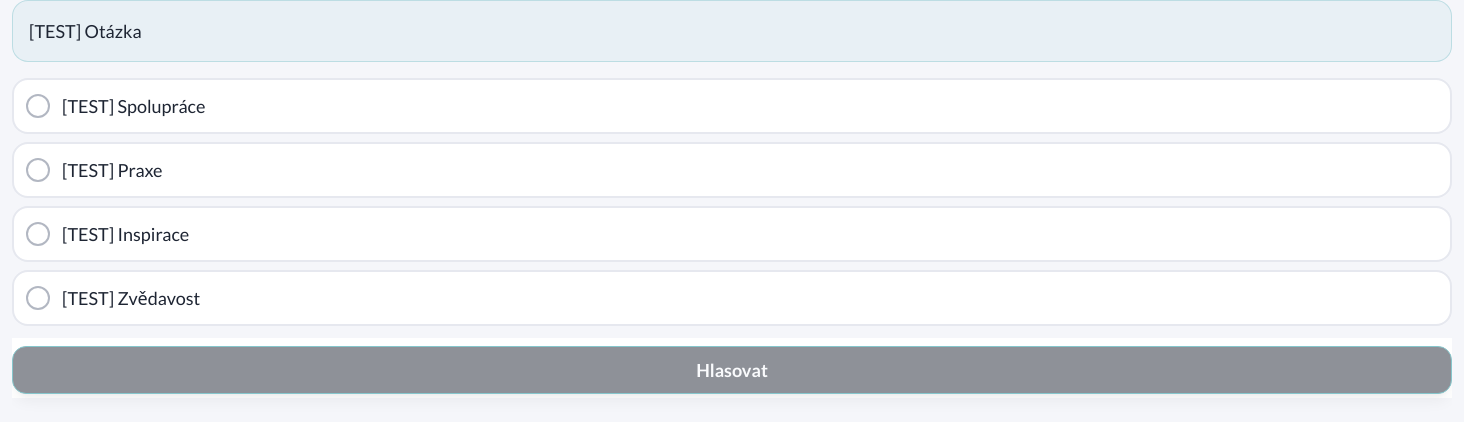
Test: PollActivity – výběr odpovědi › celý řádek přepne výběr a zpřístupní hlasování
Check: the button "Hlasovat" is disabled, box 12,346 -> 1452,394
What coordinates should you click on to do the following:
click the button "[TEST] Spolupráce"
I would click on:
 (134, 106)
Its box is 12,78 -> 1452,134.
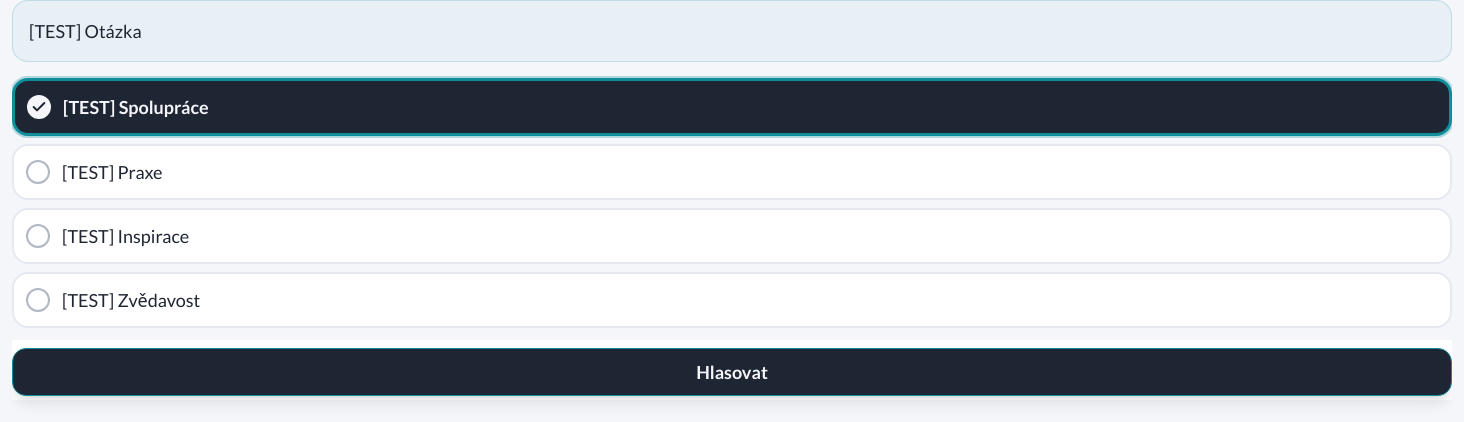
Check: the button "Hlasovat" is enabled, box 12,348 -> 1452,396
What coordinates should you click on to do the following:
click the button "[TEST] Praxe"
I would click on:
 (112, 172)
Its box is 12,144 -> 1452,200.
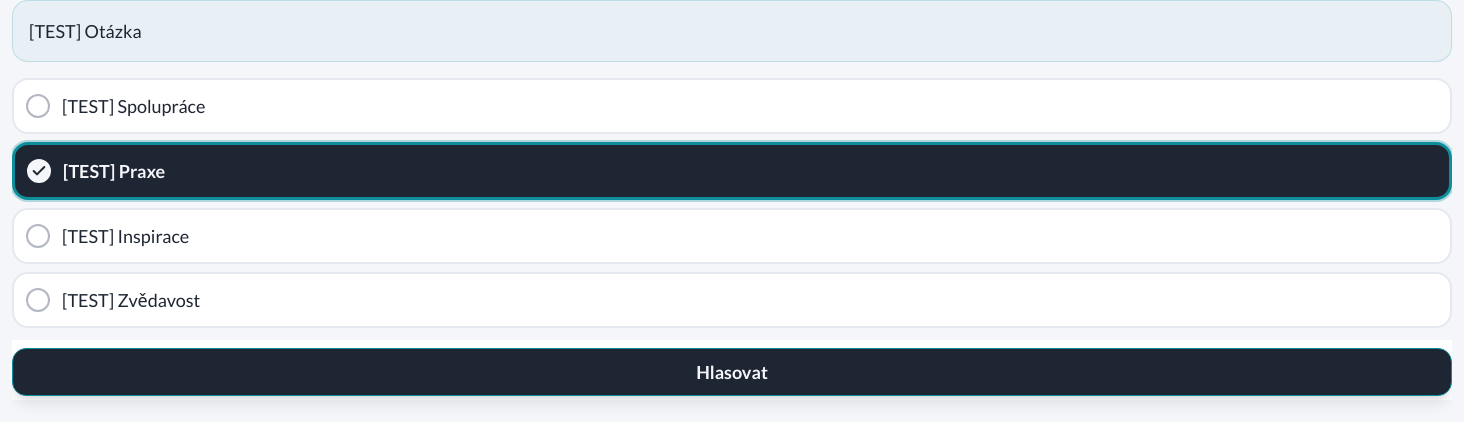
Check: the button "[TEST] Spolupráce" is not pressed, box 12,78 -> 1452,134
Check: the button "[TEST] Praxe" is pressed, box 12,142 -> 1452,200
Check: the button "[TEST] Praxe" has class "border-[3px]" "bg-foreground" "text-background" "font-bold", box 12,142 -> 1452,200
